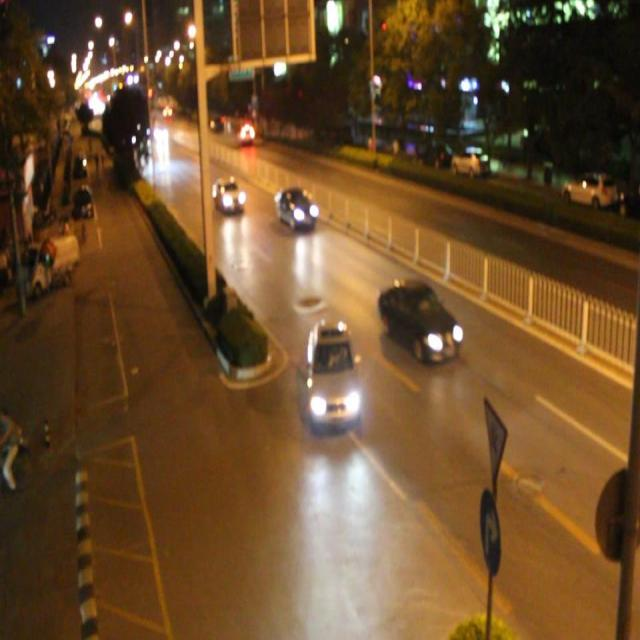car: (379, 276, 460, 365), (304, 316, 358, 432), (275, 185, 317, 230), (212, 176, 245, 212), (236, 118, 256, 144)
